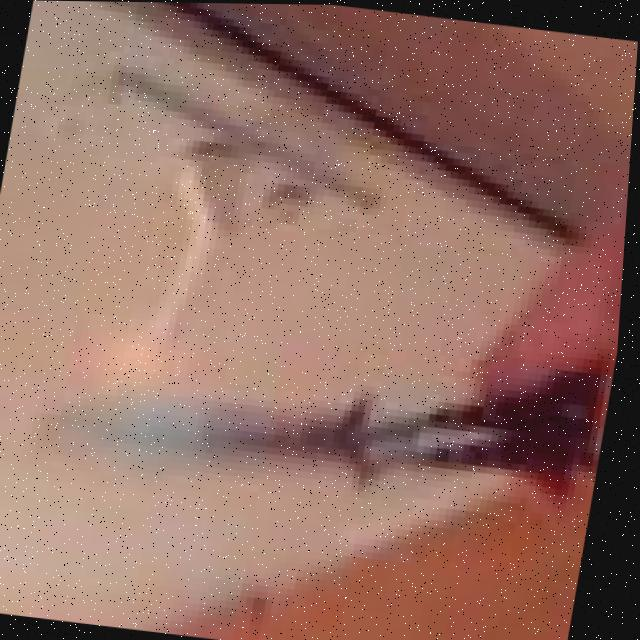knife: (45, 316, 619, 542)
